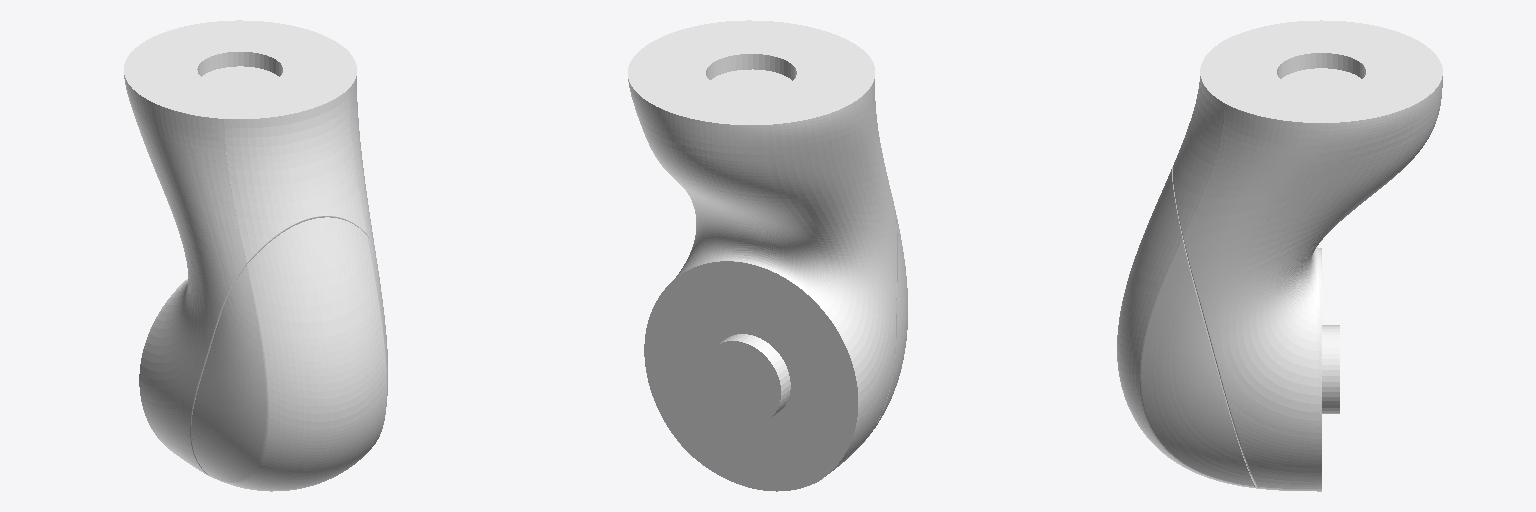
URDF robot description (kuka-iiwa-7-egp-40):
<?xml version="1.0"?>
<robot name="kuka-iiwa-7-egp-40" xmlns:xacro="http://www.ros.org/wiki/xacro">
  <!-- Fix to world just for testing -->
  <link name="world"/>
  <!--joint between {parent} and iiwa7_link_0-->
  <joint name="world_iiwa_joint" type="fixed">
    <origin rpy="0 0 0" xyz="0 0 0"/>
    <parent link="world"/>
    <child link="iiwa7_link_0"/>
  </joint>

  <link name="iiwa7_link_0">
    <inertial>
      <origin xyz="-0.01 0 0.07" rpy="0 0 0"/>
      <mass value="5"/>
      <inertia ixx="0.05"  ixy="0"  ixz="0" iyy="0.06" iyz="0" izz="0.03" />
    </inertial>

    <visual>
      <geometry>
        <mesh filename="model://kuka-iiwa-7/meshes/visual/link_0.dae"/>
      </geometry>
    </visual>

    <collision>
      <geometry>
        <mesh filename="model://kuka-iiwa-7/meshes/collision/link_0.stl"/>
      </geometry>
    </collision>

    <self_collision_checking>
      <origin xyz="0 0 0" rpy="0 0 0"/>
      <geometry>
        <capsule radius="0.15" length="0.25"/>
      </geometry>
    </self_collision_checking>

  </link>

  <!-- joint between iiwa7_link_0 and iiwa7_link_1 -->
  <joint name="iiwa7_joint_1" type="revolute">
    <parent link="iiwa7_link_0"/>
    <child link="iiwa7_link_1"/>
    <origin xyz="0 0 0.157" rpy="0 0 0"/>
    <axis xyz="0 0 1"/>
    <limit lower="-2.96705972839" upper="2.96705972839"
           effort="300" velocity="1.71042266695" />
    <safety_controller soft_lower_limit="-2.93215314335"
                       soft_upper_limit="2.93215314335"
                       k_position="100"
                       k_velocity="2"/>
    <dynamics damping="0.5"/>
  </joint>

  <link name="iiwa7_link_1">
    <inertial>
      <origin xyz="0 -0.03 0.12" rpy="0 0 0"/>
      <mass value="3.4525"/>
      <inertia ixx="0.02183"  ixy="0"  ixz="0" iyy="0.02081" iyz="0.003883" izz="0.007697" />
    </inertial>
    <visual>
      <geometry>
        <mesh filename="model://kuka-iiwa-7/meshes/visual/link_1.dae"/>
      </geometry>
    </visual>
    <collision>
      <geometry>
        <mesh filename="model://kuka-iiwa-7/meshes/collision/link_1.stl"/>
      </geometry>
    </collision>
  </link>

  <joint name="iiwa7_joint_2" type="revolute">
    <parent link="iiwa7_link_1"/>
    <child link="iiwa7_link_2"/>
    <origin xyz="0 0 0.183" rpy="0 0 0"/>
    <axis xyz="0 1 0"/>
    <limit lower="-2.09439510239" upper="2.09439510239"
           effort="300" velocity="1.71042266695" />
    <safety_controller soft_lower_limit="-2.05948851735"
                       soft_upper_limit="2.05948851735"
                       k_position="100"
                       k_velocity="2"/>
    <dynamics damping="0.5"/>
  </joint>

  <link name="iiwa7_link_2">
    <inertial>
      <origin xyz="0.000 0.034417 0.0673286" rpy="0 0 0"/>
      <mass value="3.4821"/>
      <inertia ixx="0.02177"  ixy="0"  ixz="0.00" iyy="0.02075" iyz="0.003621" izz="0.00779" />
    </inertial>
    <visual>
      <geometry>
        <mesh filename="model://kuka-iiwa-7/meshes/visual/link_2.dae"/>
      </geometry>
    </visual>

    <collision>
      <geometry>
        <mesh filename="model://kuka-iiwa-7/meshes/collision/link_2.stl"/>
      </geometry>
    </collision>
  </link>

  <joint name="iiwa7_joint_3" type="revolute">
    <parent link="iiwa7_link_2"/>
    <child link="iiwa7_link_3"/>
    <origin xyz="0 0 0.185" rpy="0 0 0"/>
    <axis xyz="0 0 1"/>
    <limit lower="-2.96705972839" upper="2.96705972839"
           effort="300" velocity="1.74532925199" />
    <safety_controller soft_lower_limit="-2.93215314335"
                       soft_upper_limit="2.93215314335"
                       k_position="100"
                       k_velocity="2"/>
    <dynamics damping="0.5"/>
  </joint>

  <link name="iiwa7_link_3">
    <inertial>
      <origin xyz="0 0.0295 0.1258" rpy="0 0 0"/>
      <mass value="4.05623"/>
      <inertia ixx="0.03204"  ixy="0"  ixz="0" iyy="0.03044" iyz="-0.006231" izz="0.009726" />
    </inertial>

    <visual>
      <geometry>
        <mesh filename="model://kuka-iiwa-7/meshes/visual/link_3.dae"/>
      </geometry>
    </visual>

    <collision>
      <geometry>
        <mesh filename="model://kuka-iiwa-7/meshes/collision/link_3.stl"/>
      </geometry>
    </collision>

  </link>

  <joint name="iiwa7_joint_4" type="revolute">
    <parent link="iiwa7_link_3"/>
    <child link="iiwa7_link_4"/>
    <origin xyz="0 0 0.215" rpy="0 0 0"/>
    <axis xyz="0 -1 0"/>
    <limit lower="-2.09439510239" upper="2.09439510239"
           effort="300" velocity="2.26892802759" />
    <safety_controller soft_lower_limit="-2.05948851735"
                       soft_upper_limit="2.05948851735"
                       k_position="100"
                       k_velocity="2"/>
    <dynamics damping="0.5"/>
  </joint>

  <link name="iiwa7_link_4">
    <inertial>
      <origin xyz="0 -0.034 0.067" rpy="0 0 0"/>
      <mass value="3.4822"/>
      <inertia ixx="0.021775"  ixy="0"  ixz="0" iyy="0.02075" iyz="-0.003621" izz="0.007783" />
    </inertial>

    <visual>
      <geometry>
        <mesh filename="model://kuka-iiwa-7/meshes/visual/link_4_y_z.obj"/>
      </geometry>
      <material name="white">
        <color rgba="1 1 1 1"/>
      </material>
    </visual>

    <collision>
      <geometry>
        <mesh filename="model://kuka-iiwa-7/meshes/collision/link_4.stl"/>
      </geometry>
    </collision>
  </link>

  <joint name="iiwa7_joint_5" type="revolute">
    <parent link="iiwa7_link_4"/>
    <child link="iiwa7_link_5"/>
    <origin xyz="0 0 0.4" rpy="0 0 0"/>
    <axis xyz="0 0 1"/>
    <limit lower="-2.96705972839" upper="2.96705972839"
           effort="300" velocity="2.44346095279" />
    <safety_controller soft_lower_limit="-2.93215314335"
                       soft_upper_limit="2.93215314335"
                       k_position="100"
                       k_velocity="2"/>
    <dynamics damping="0.5"/>
  </joint>

  <link name="iiwa7_link_5">
    <inertial>
      <origin xyz="0.0001 -0.02263 -0.1365" rpy="0 0 0"/>
      <mass value="2.1633"/>
      <inertia ixx="0.01287"  ixy="0"  ixz="0" iyy="0.01112" iyz="0.003943" izz="0.0057128" />
    </inertial>

    <visual>
      <geometry>
        <mesh filename="model://kuka-iiwa-7/meshes/visual/link_5.dae"/>
      </geometry>
    </visual>

    <collision>
      <geometry>
        <mesh filename="model://kuka-iiwa-7/meshes/collision/link_5.stl"/>
      </geometry>
    </collision>
  </link>

  <joint name="iiwa7_joint_6" type="revolute">
    <parent link="iiwa7_link_5"/>
    <child link="iiwa7_link_6"/>
    <origin xyz="0 0 0" rpy="0 0 0"/>
    <axis xyz="0 1 0"/>
    <limit lower="-2.09439510239" upper="2.09439510239"
           effort="300" velocity="3.14159265359" />
    <safety_controller soft_lower_limit="-2.05948851735"
                       soft_upper_limit="2.05948851735"
                       k_position="100"
                       k_velocity="2"/>
    <dynamics damping="0.5"/>
  </joint>

  <link name="iiwa7_link_6">
    <inertial>
      <origin xyz="0 0.00047 0.002124" rpy="0 0 0"/>
      <mass value="2.3466"/>
      <inertia ixx="0.006522"  ixy="0"  ixz="0" iyy="0.006270" iyz="0.00032280" izz="0.0045345" />
    </inertial>

    <visual>
      <geometry>
        <mesh filename="model://kuka-iiwa-7/meshes/visual/link_6.dae"/>
      </geometry>
    </visual>

    <collision>
      <geometry>
        <mesh filename="model://kuka-iiwa-7/meshes/collision/link_6.stl"/>
      </geometry>
    </collision>
  </link>

  <joint name="iiwa7_joint_7" type="revolute">
    <parent link="iiwa7_link_6"/>
    <child link="iiwa7_link_7"/>
    <origin xyz="0 0 0" rpy="0 0 0"/>
    <axis xyz="0 0 1"/>
    <limit lower="-3.05432619099" upper="3.05432619099"
           effort="300" velocity="3.14159265359" />
    <safety_controller soft_lower_limit="-3.01941960595"
                       soft_upper_limit="3.01941960595"
                       k_position="100"
                       k_velocity="2"/>
    <dynamics damping="0.5"/>
  </joint>

  <link name="iiwa7_link_7">
    <inertial>
      <origin xyz="0 0 0.1" rpy="0 0 0"/>
      <mass value="3.129"/>
      <inertia ixx="0.0022711"  ixy="0.0000221"  ixz="0" iyy="0.0022807" iyz="0" izz="0.002872" />
    </inertial>

    <visual>
      <geometry>
        <mesh filename="model://kuka-iiwa-7/meshes/visual/link_7.dae"/>
      </geometry>
    </visual>

    <collision>
      <geometry>
        <mesh filename="model://kuka-iiwa-7/meshes/collision/link_7.stl"/>
      </geometry>
    </collision>
  </link>

  <joint name="iiwa7_joint_ee" type="fixed">
    <parent link="iiwa7_link_7"/>
    <child link="iiwa7_link_ee"/>
    <origin xyz="0 0 0.126" rpy="0 0 0"/>
  </joint>

  <!-- SCHUNK EGP 40 EEF -->

  <!-- Base -->
    <link name="iiwa7_link_ee">
        <inertial>
            <mass value="0.6" />
            <origin rpy="0 0 0" xyz="0.00078059 -0.00070996 0.04726637" />
            <inertia ixx="0.0011357" ixy="-0.00000024461" ixz="0.000014912" iyy="0.0012832" iyz="0.0000085651" izz="0.00066545" />
        </inertial>
        <visual>
            <origin rpy="0 0 0" xyz="0 0 0" />
            <geometry>
                <mesh filename="model://schunk-egp-40/meshes/visual/obj/schunk_low_baked_small.obj" scale="1 1 1" />
            </geometry>
            <material name="white">
                <color rgba="1 1 1 1"/>
            </material>
        </visual>
        <collision>
            <origin rpy="0 0 0" xyz="0 0 0" />
            <geometry>
                <mesh filename="model://schunk-egp-40/meshes/visual/dae/schunk-egp-40-collision.dae" scale="1 1 1" />
            </geometry>
        </collision>
    </link>

  <!-- Finger 1 -->
  <!-- <link name="SchunkEGP40_Finger1_link">
      <inertial>
          <mass value="0.04" />
          <origin rpy="0 0 0" xyz="0 0 0" />
          <inertia ixx="0.0000013454" ixy="0" ixz="0" iyy="0.00000061207" iyz="0" izz="0.00000097333" />
      </inertial>
      <visual>
          <origin rpy="0 0 0" xyz="0 0 0" />
          <geometry>
              <mesh filename="model://schunk-egp-40/meshes/visual/dae/schunk-egp-40-finger-base.dae" scale="1 1 1" />
          </geometry>
          <material name="black">
              <color rgba="0 0 0 1"/>
          </material>
      </visual>
      <collision>
          <origin rpy="0 0 0" xyz="0 0.0005 0.006075" />
          <geometry>
              <box size="0.006 0.016 0.01215" />
          </geometry>
      </collision>
  </link> -->

  <!-- Finger Joint 1 -->
  <!-- <joint name="SchunkEGP40_Finger1_joint" type="prismatic">
      <origin xyz="0.006800 0.000500 0.108000" rpy="0 0 0" />
      <axis xyz="1 0 0" />
      <limit effort="1" lower="0" upper="0.01" velocity="1" />
      <dynamics damping="0.5" />
      <parent link="iiwa7_link_ee" />
      <child link="SchunkEGP40_Finger1_link" />
  </joint> -->
  <!-- <joint name="SchunkEGP40_Finger1_joint" type="fixed">
    <parent link="iiwa7_link_ee"/>
    <child link="SchunkEGP40_Finger1_link"/>
    <origin xyz="0.006800 0.000500 0.108000" rpy="0 0 0" />
  </joint> -->
  <!-- <joint name="SchunkEGP40_Finger1_joint" type="revolute">
    <parent link="iiwa7_link_ee"/>
    <child link="SchunkEGP40_Finger1_link"/>
    <origin xyz="0.006800 0.000500 0.108000" rpy="0 0 0" />
    <axis xyz="0 0 1"/>
    <limit lower="-3.05432619099" upper="3.05432619099"
           effort="300" velocity="3.14159265359" />
    <safety_controller soft_lower_limit="-3.01941960595"
                       soft_upper_limit="3.01941960595"
                       k_position="100"
                       k_velocity="2"/>
    <dynamics damping="0.5"/>
  </joint> -->


    <!-- Finger 1 -->
    <link name="SchunkEGP40_Finger1_link">
        <inertial>
            <mass value="0.04" />
            <origin rpy="0 0 0" xyz="0 0 0" />
            <inertia ixx="0.0000013454" ixy="0" ixz="0" iyy="0.00000061207" iyz="0" izz="0.00000097333" />
        </inertial>
        <visual>
            <origin rpy="0 0 0" xyz="0 0 0" />
            <geometry>
                <mesh filename="model://schunk-egp-40/meshes/visual/dae/schunk-egp-40-finger-base.dae" scale="1 1 1" />
            </geometry>
            <material name="black">
                <color rgba="0 0 0 1"/>
            </material>
        </visual>
        <collision>
            <origin rpy="0 0 0" xyz="0 0.0005 0.006075" />
            <geometry>
                <box size="0.006 0.016 0.01215" />
            </geometry>
        </collision>
    </link>

    <!-- Finger 2 -->
    <link name="SchunkEGP40_Finger2_link">
        <inertial>
            <mass value="0.04" />
            <origin rpy="0 0 0" xyz="0 0 0" />
            <inertia ixx="0.0000013454" ixy="0" ixz="0" iyy="0.00000061207" iyz="0" izz="0.00000097333" />
        </inertial>
        <visual>
            <origin rpy="0 0 0" xyz="0 0 0" />
            <geometry>
                <mesh filename="model://schunk-egp-40/meshes/visual/dae/schunk-egp-40-finger-base.dae" scale="1 1 1" />
            </geometry>
            <material name="black">
                <color rgba="0 0 0 1"/>
            </material>
        </visual>
        <collision>
            <origin rpy="0 0 0" xyz="0 0.0005 0.006075" />
            <geometry>
                <box size="0.006 0.016 0.01215" />
            </geometry>
        </collision>
    </link>

    <!-- Finger Joint 1 -->
    <joint name="SchunkEGP40_Finger1_joint" type="fixed">
        <origin xyz="0.006800 0.000500 0.108000" rpy="0 0 0" />
        <axis xyz="1 0 0" />
        <limit effort="1" lower="0" upper="0.01" velocity="-1" />
        <dynamics damping="1.0" />
        <parent link="iiwa7_link_ee" />
        <child link="SchunkEGP40_Finger1_link" />
    </joint>
    <gazebo reference="SchunkEGP40_Finger1_joint">
        <provideFeedback>1</provideFeedback>
        <implicitSpringDamper>1</implicitSpringDamper>
    </gazebo>
    
    <!-- Finger Joint 2 -->
    <joint name="SchunkEGP40_Finger2_joint" type="fixed">
        <origin xyz="-0.006800 0.000500 0.108000" rpy="0 0 3.14" />
        <axis xyz="1 0 0" />
        <limit effort="1" lower="0" upper="0.01" velocity="-1" />
        <dynamics damping="1.0" />
        <parent link="iiwa7_link_ee" />
        <child link="SchunkEGP40_Finger2_link" />
    </joint>
    <gazebo reference="SchunkEGP40_Finger2_joint">
        <provideFeedback>1</provideFeedback>
        <implicitSpringDamper>1</implicitSpringDamper>
    </gazebo>

  <!--Extensions -->
  <!-- Link0 -->
  <gazebo reference="iiwa7_link_0">
    <mu1>0.2</mu1>
    <mu2>0.2</mu2>
  </gazebo>

  <!-- Link1 -->
  <gazebo reference="iiwa7_link_1">
    <mu1>0.2</mu1>
    <mu2>0.2</mu2>
  </gazebo>

  <!-- Link2 -->
  <gazebo reference="iiwa7_link_2">
    <mu1>0.2</mu1>
    <mu2>0.2</mu2>
  </gazebo>

  <!-- Link3 -->
  <gazebo reference="iiwa7_link_3">
    <mu1>0.2</mu1>
    <mu2>0.2</mu2>
  </gazebo>

  <!-- Link4 -->
  <gazebo reference="iiwa7_link_4">
    <mu1>0.2</mu1>
    <mu2>0.2</mu2>
  </gazebo>

  <!-- Link5 -->
  <gazebo reference="iiwa7_link_5">
    <mu1>0.2</mu1>
    <mu2>0.2</mu2>
  </gazebo>

  <!-- Link6 -->
  <gazebo reference="iiwa7_link_6">
    <mu1>0.2</mu1>
    <mu2>0.2</mu2>
  </gazebo>

  <!-- Link7 -->
  <gazebo reference="iiwa7_link_7">
    <mu1>0.2</mu1>
    <mu2>0.2</mu2>
  </gazebo>
</robot>

--- Render facts (derived) ---
3 views of the same robot in one strip: view 1: azimuth 30°, elevation 25°; view 2: azimuth 150°, elevation 25°; view 3: azimuth 270°, elevation 25° (orthographic).
Model kuka-iiwa-7-egp-40 with 12 links and 11 joints (7 revolute, 4 fixed), rooted at world, posed every joint at zero.
Visible links, largest first — view 1: iiwa7_link_4; view 2: iiwa7_link_4; view 3: iiwa7_link_4.
Link boxes in pixels (x1,y1,x2,y2): iiwa7_link_4: [124, 20, 387, 491]; iiwa7_link_4: [628, 20, 907, 491]; iiwa7_link_4: [1117, 20, 1442, 491].
Size in the robot's own frame: 0.136 by 0.1826 by 0.252 metres.
Meshes: 10 distinct files referenced, 1 mesh visuals loaded (1 OBJ); not drawn: 10 (reference not matched to a file when rendering).